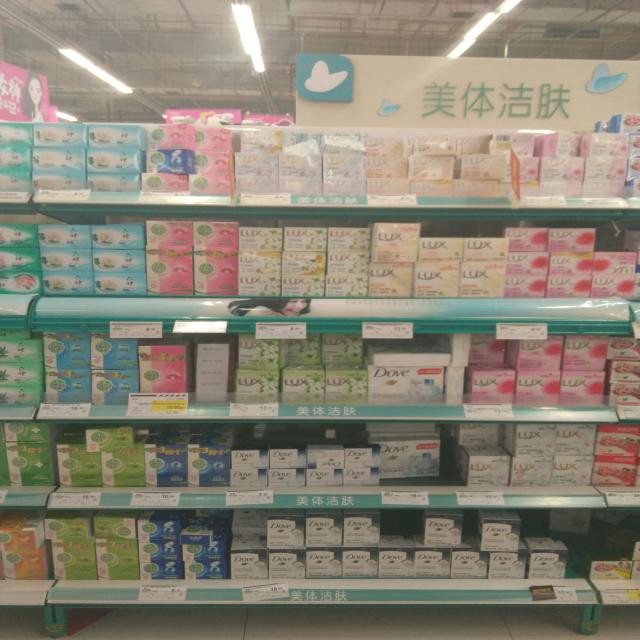unorganised: (279, 336, 363, 368), (380, 445, 445, 484), (463, 420, 512, 454), (480, 519, 523, 554), (423, 511, 464, 547), (470, 335, 513, 369), (453, 151, 505, 179), (82, 428, 136, 454), (535, 132, 583, 158), (234, 511, 265, 548), (144, 150, 191, 173), (550, 509, 589, 534), (179, 522, 213, 545)
